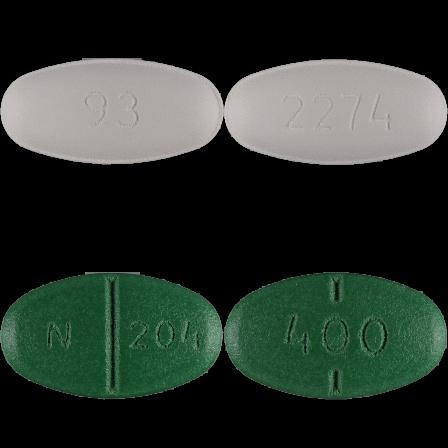68788-9055: (0, 0, 224, 224)
